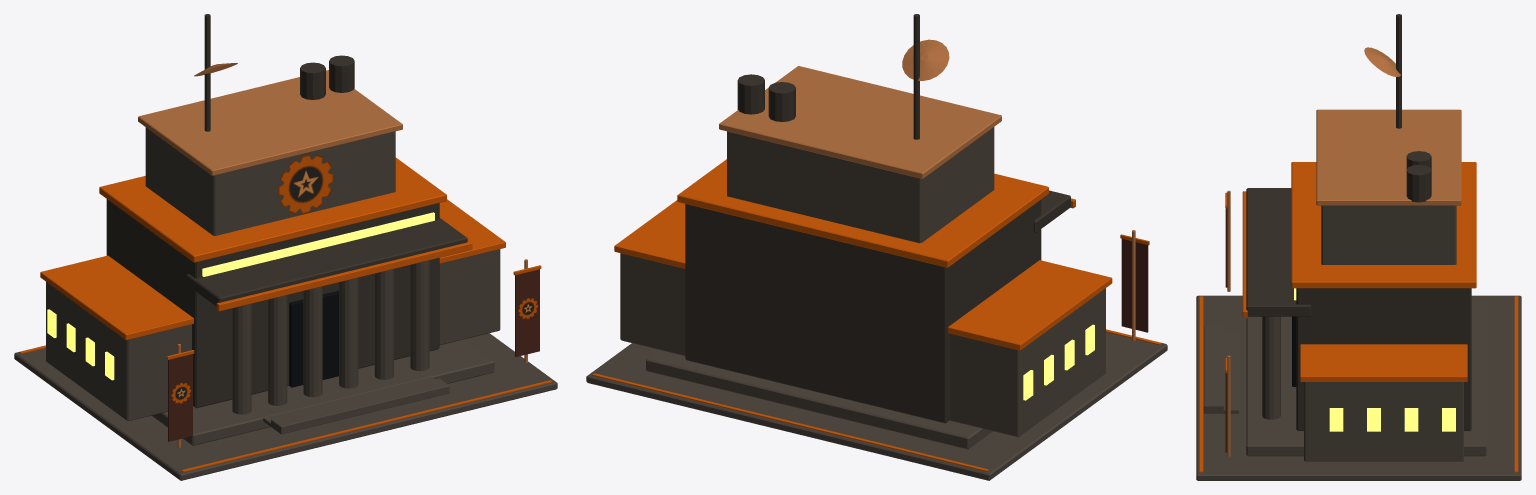
File: Thorvald_SyndicateExchange.fbx
3 views of the same model, side by side, from view 1: azimuth 30°, elevation 25°; view 2: azimuth 150°, elevation 25°; view 3: azimuth 270°, elevation 25° (orthographic). The views are drawn at different scales.
Parts seen in each view (by area): view 1: Thorvald_SyndicateExchange; view 2: Thorvald_SyndicateExchange; view 3: Thorvald_SyndicateExchange.
Part boxes in pixels (x1,y1,x2,y2): Thorvald_SyndicateExchange: (14, 14, 557, 480); Thorvald_SyndicateExchange: (586, 14, 1167, 480); Thorvald_SyndicateExchange: (1196, 14, 1521, 480).
Bounding box in the file's own units: 17.1 × 15.4 × 13.
Materials: 9 (1 with a texture image).
